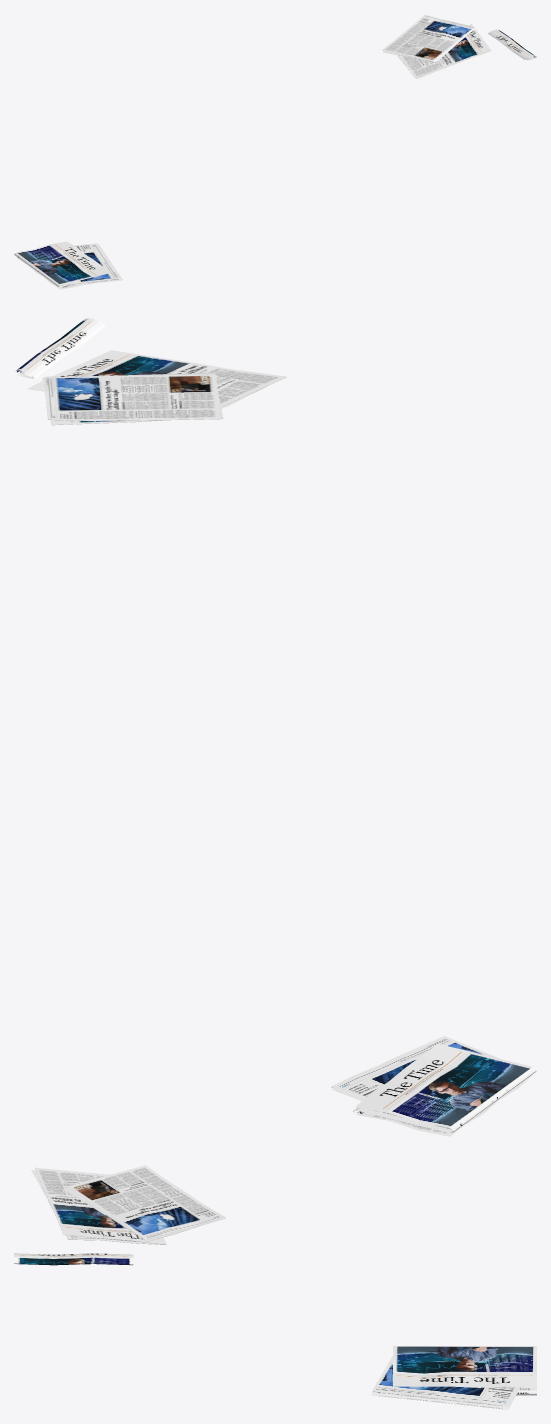
The model's file is newspaper.gltf.
3 renders of one model, top to bottom at view 1: azimuth 30°, elevation 25°; view 2: azimuth 150°, elevation 25°; view 3: azimuth 270°, elevation 25°, orthographic. The views are drawn at different scales.
Parts seen in each view (by area): view 1: Circle, Plane.001, Plane, Circle.001, Plane.002; view 2: Circle, Plane.001, Plane, Circle.001, Plane.002; view 3: Plane.001, Circle, Plane, Circle.001, Plane.002.
Part boxes in pixels (x1,y1,x2,y2): Circle: (14, 241, 111, 289); Plane.001: (382, 14, 476, 62); Plane: (397, 24, 491, 78); Circle.001: (62, 243, 122, 286); Plane.002: (488, 29, 536, 60); Circle: (353, 1044, 536, 1136); Plane.001: (41, 372, 223, 425); Plane: (28, 350, 286, 408); Circle.001: (329, 1036, 500, 1101); Plane.002: (14, 318, 105, 378); Plane.001: (63, 1165, 225, 1241); Circle: (393, 1346, 536, 1395); Plane: (31, 1167, 166, 1244); Circle.001: (371, 1356, 519, 1409); Plane.002: (14, 1253, 133, 1265).
Bounding box in the file's own units: 2.73 × 1.72 × 2.13.
Materials: 5 (5 with a texture image).
